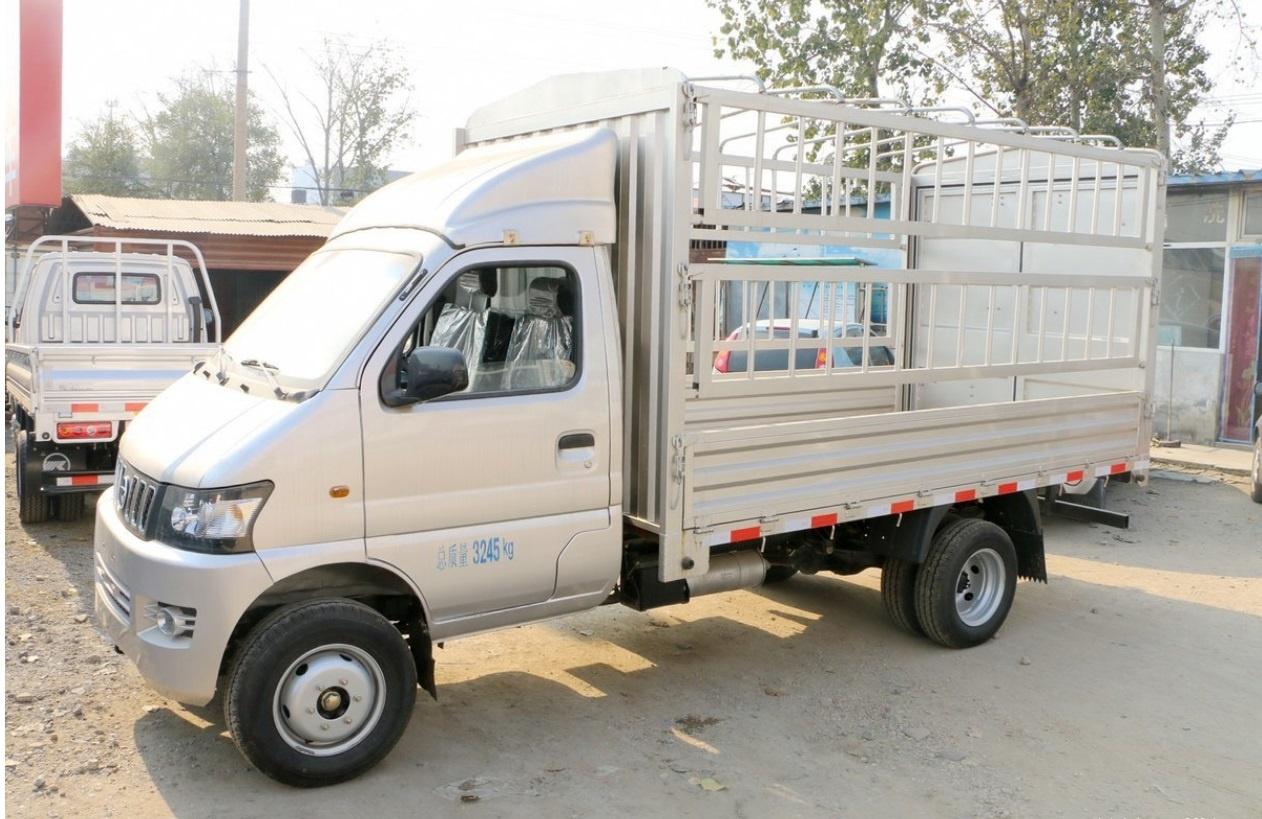truck: (105, 84, 1153, 759)
